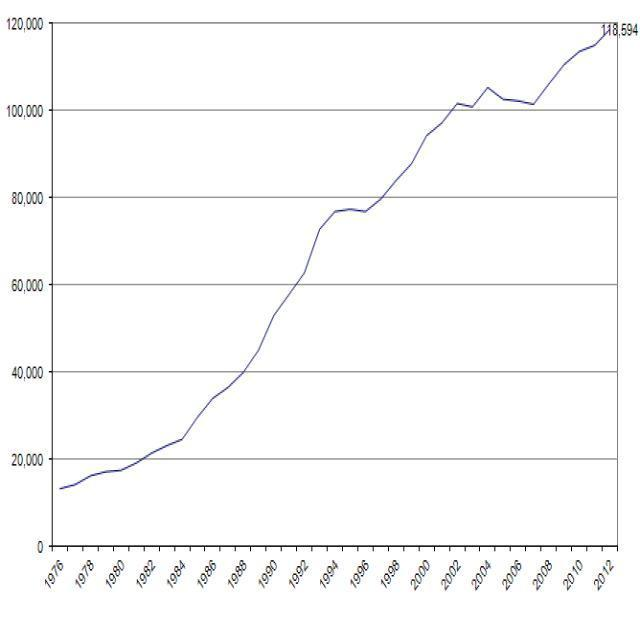axis: (45, 538, 629, 556), (45, 6, 60, 555)
line: (57, 24, 615, 491)
